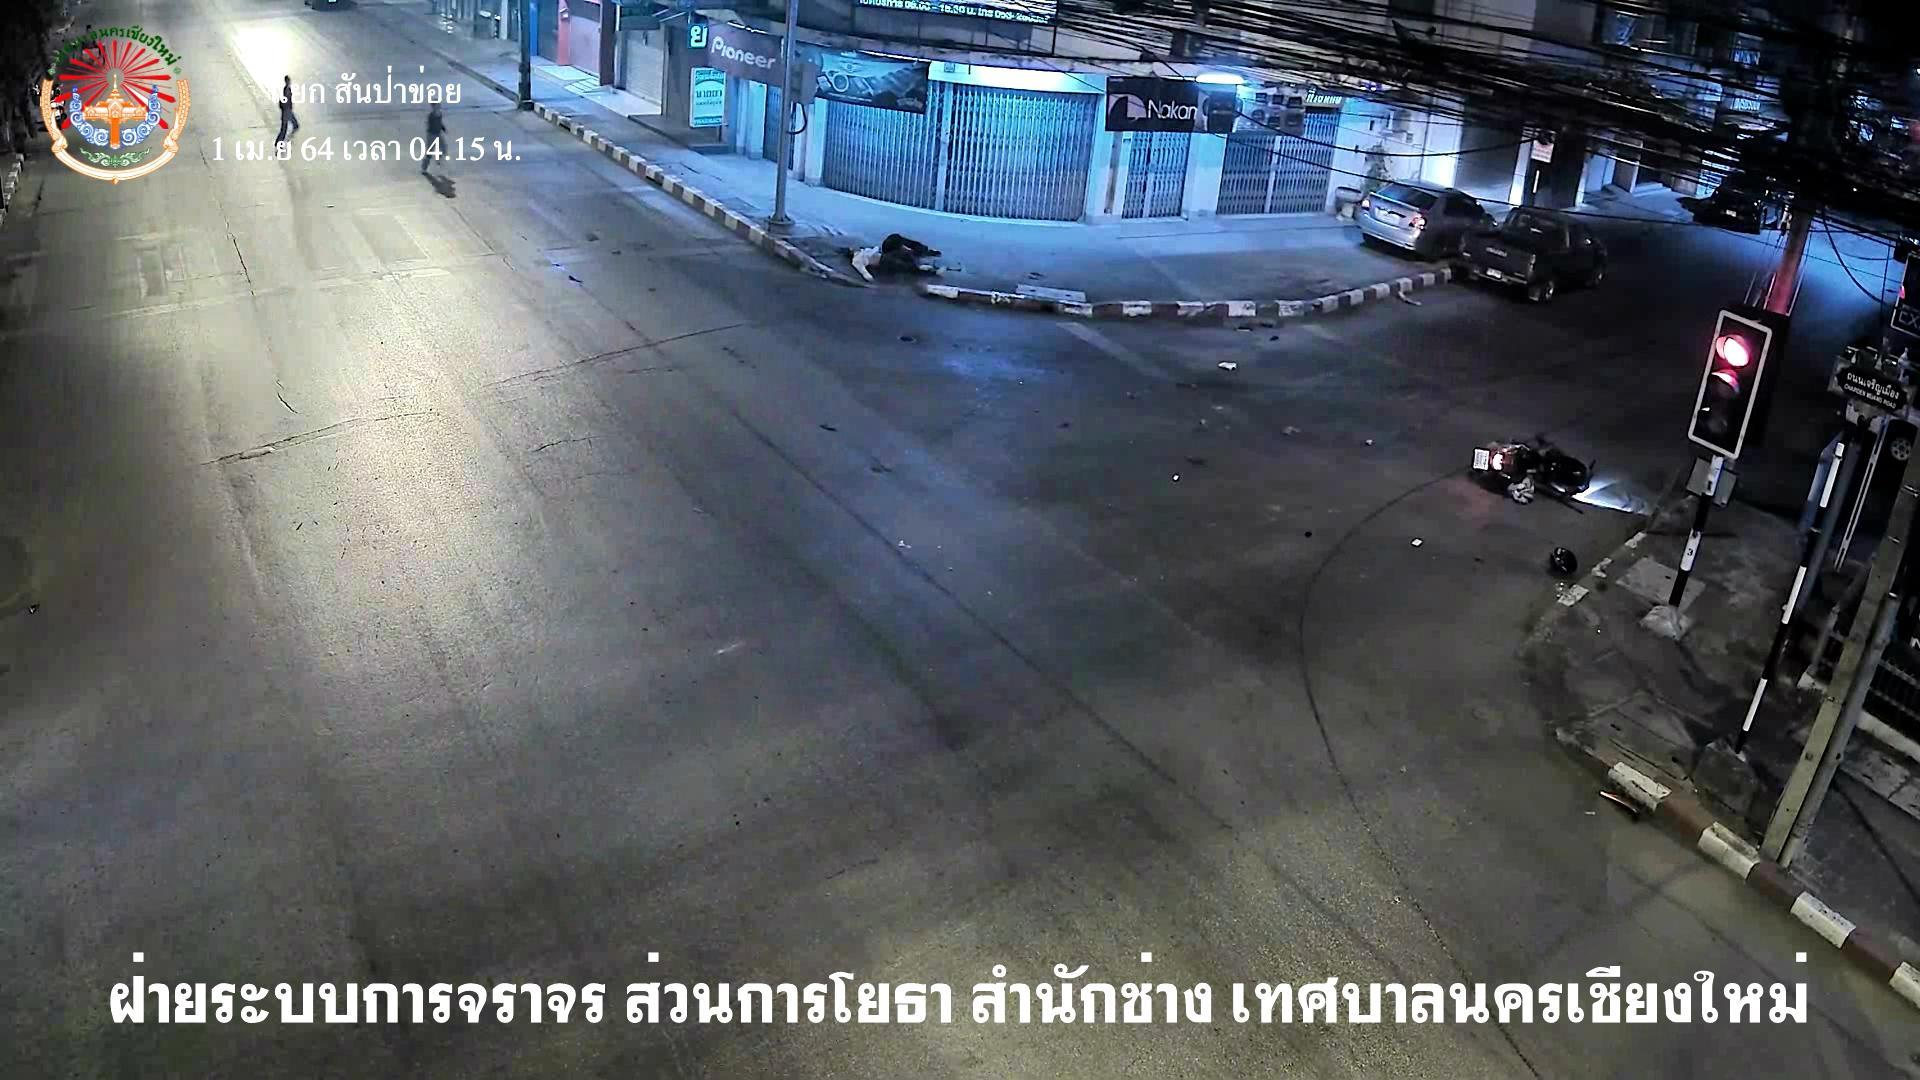accident: (845, 224, 949, 289)
